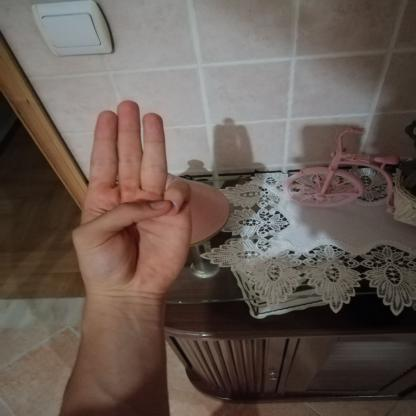THA: (60, 90, 204, 309)
